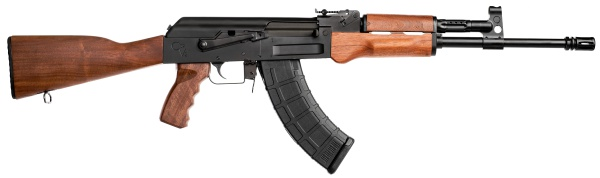ak47: (9, 6, 595, 174)
